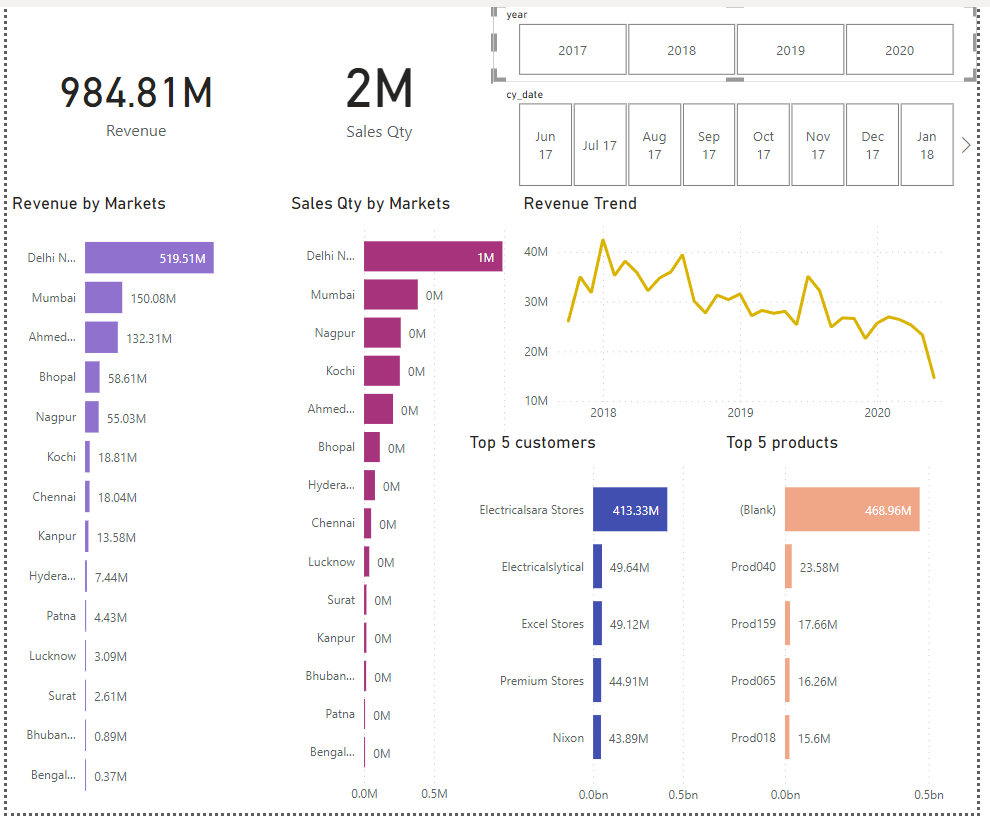

What the dashboard file says about the page in this screenshot:
{"tool":"powerbi","page":{"name":"Page 1","canvas":[960,850],"ordinal":0},"visuals":[{"type":"card","fields":{"Values":["BaseMeasures.Revenue"]},"box":[0,49,255.1,188.4],"z":0},{"type":"card","fields":{"Values":["BaseMeasures.Sales Qty"]},"box":[255.1,37.1,225.5,200.3],"z":1000},{"type":"clusteredBarChart","title":"Revenue by Markets","fields":{"Y":["BaseMeasures.Revenue"],"Category":["sales markets.markets_name"]},"box":[0,237.3,255.1,612.7],"z":2000},{"type":"clusteredBarChart","title":"Sales Qty by Markets","fields":{"Y":["BaseMeasures.Sales Qty"],"Category":["sales markets.markets_name"]},"box":[275.9,237.3,255.1,612.7],"z":3000},{"type":"slicer","fields":{"Values":["sales date.year"]},"box":[480.6,49,479.1,78.6],"z":4000},{"type":"slicer","fields":{"Values":["sales date.cy_date"]},"box":[480.6,127.6,479.1,109.8],"z":5000},{"type":"barChart","title":"Top 5 customers","fields":{"Y":["BaseMeasures.Revenue"],"Category":["sales customers.custmer_name"]},"box":[452.4,473.2,253.7,376.8],"z":6000},{"type":"barChart","title":"Top 5 products","fields":{"Y":["BaseMeasures.Revenue"],"Category":["sales products.product_code"]},"box":[706.1,473.2,253.7,376.8],"z":6001},{"type":"lineChart","title":"Revenue Trend","fields":{"Y":["BaseMeasures.Revenue"],"Category":["sales date.cy_date"]},"box":[505.8,237.3,428.7,235.9],"z":6002}]}

Visuals, with their boxes on the page's 960x850 design canvas (x1, y1, x2, y2). These are canvas units, not pixel positions in the 990x825 screenshot, which may show the page scaled, cropped or inside an application window:
card - BaseMeasures.Revenue: left=0, top=49, right=255, bottom=237
card - BaseMeasures.Sales Qty: left=255, top=37, right=481, bottom=237
"Revenue by Markets" clusteredBarChart: left=0, top=237, right=255, bottom=850
"Sales Qty by Markets" clusteredBarChart: left=276, top=237, right=531, bottom=850
slicer - sales date.year: left=481, top=49, right=960, bottom=128
slicer - sales date.cy_date: left=481, top=128, right=960, bottom=237
"Top 5 customers" barChart: left=452, top=473, right=706, bottom=850
"Top 5 products" barChart: left=706, top=473, right=960, bottom=850
"Revenue Trend" lineChart: left=506, top=237, right=934, bottom=473
